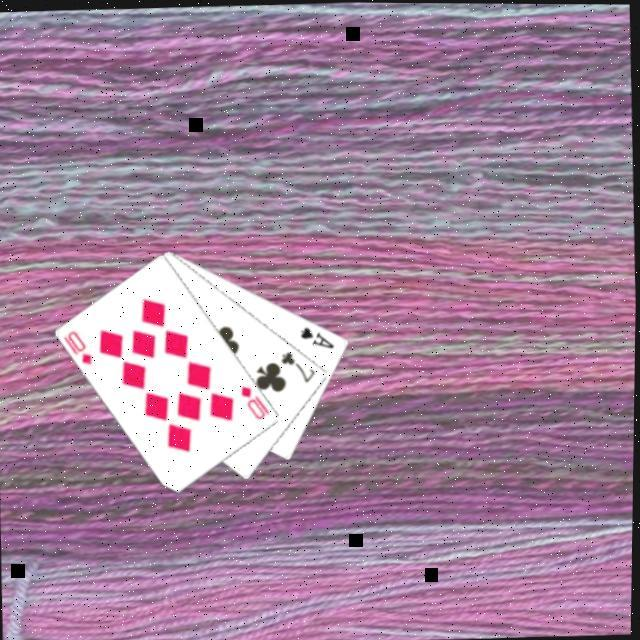10D: (236, 379, 272, 420), (58, 325, 94, 366)
7C: (276, 344, 318, 384)
AS: (296, 320, 336, 350)
